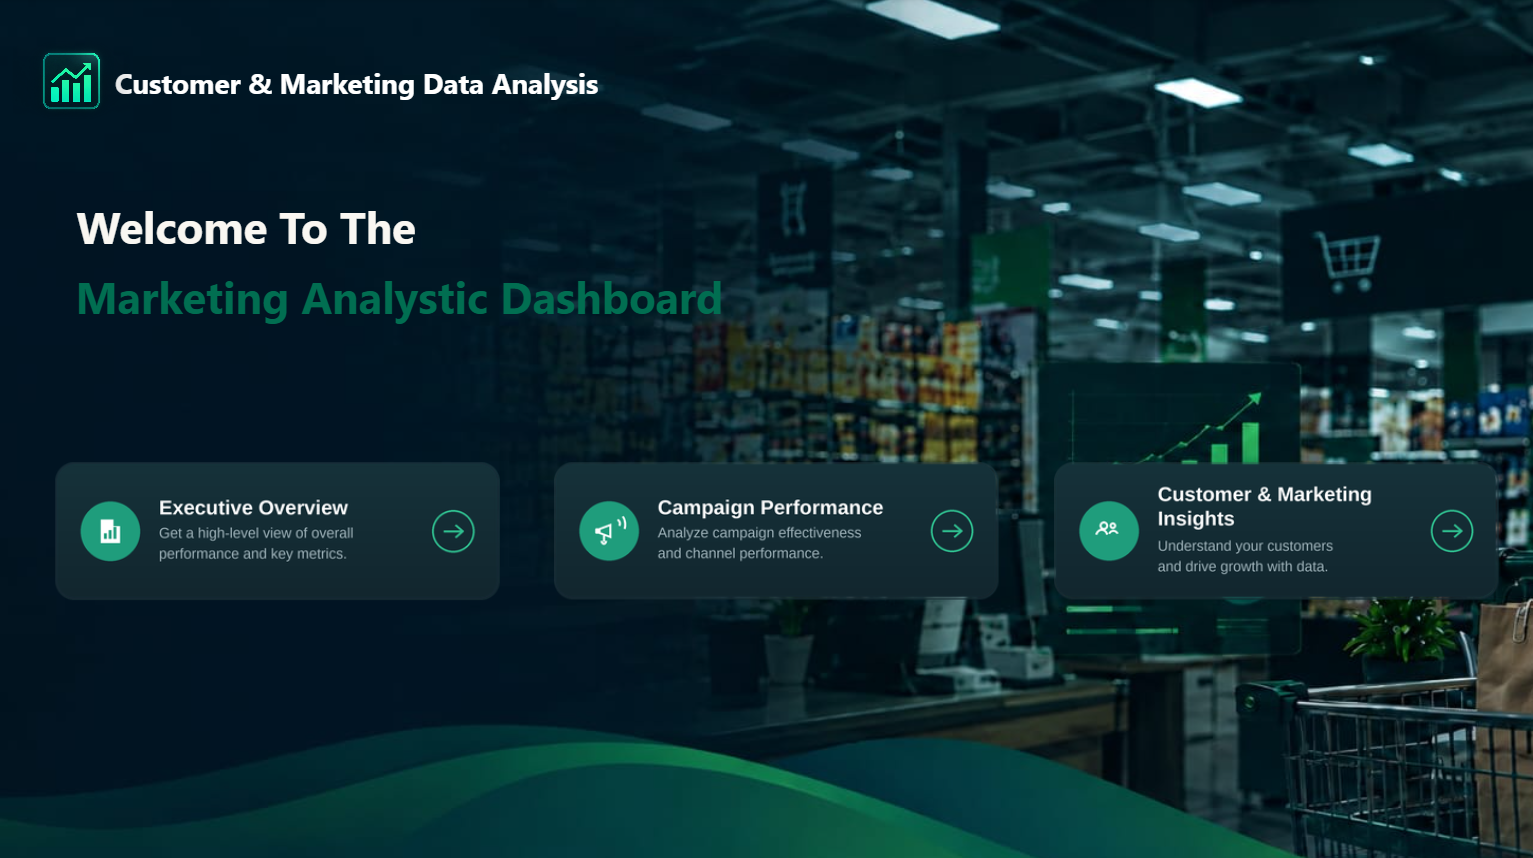

What the dashboard file says about the page in this screenshot:
{"tool":"powerbi","page":{"name":"Home","canvas":[1920,1080],"ordinal":0},"visuals":[{"type":"image","box":[0,0,1920,1080.7],"z":0},{"type":"shape","box":[41.7,223.3,532.2,123.1],"z":1000},{"type":"shape","box":[40.9,304.5,917.4,134.3],"z":2000},{"type":"shape","box":[129.1,69.8,633.1,69.8],"z":3000},{"type":"image","box":[17.4,47.1,146.5,116.9],"z":4000},{"type":"image","box":[69.8,495.4,554.7,338.4],"z":5000},{"type":"image","box":[692.8,495.4,554,338],"z":6000},{"type":"image","box":[1315.1,495.4,554,338],"z":7000}]}

Visuals, with their boxes in screenshot pixels (x1, y1, x2, y2), scaled from the page's 1920x1080 canvas onto the 1533x858 screenshot:
image: [left=0, top=0, right=1532, bottom=857]
shape: [left=33, top=177, right=458, bottom=275]
shape: [left=33, top=242, right=765, bottom=349]
shape: [left=103, top=55, right=609, bottom=111]
image: [left=14, top=37, right=131, bottom=130]
image: [left=56, top=394, right=499, bottom=662]
image: [left=553, top=394, right=995, bottom=662]
image: [left=1050, top=394, right=1492, bottom=662]
